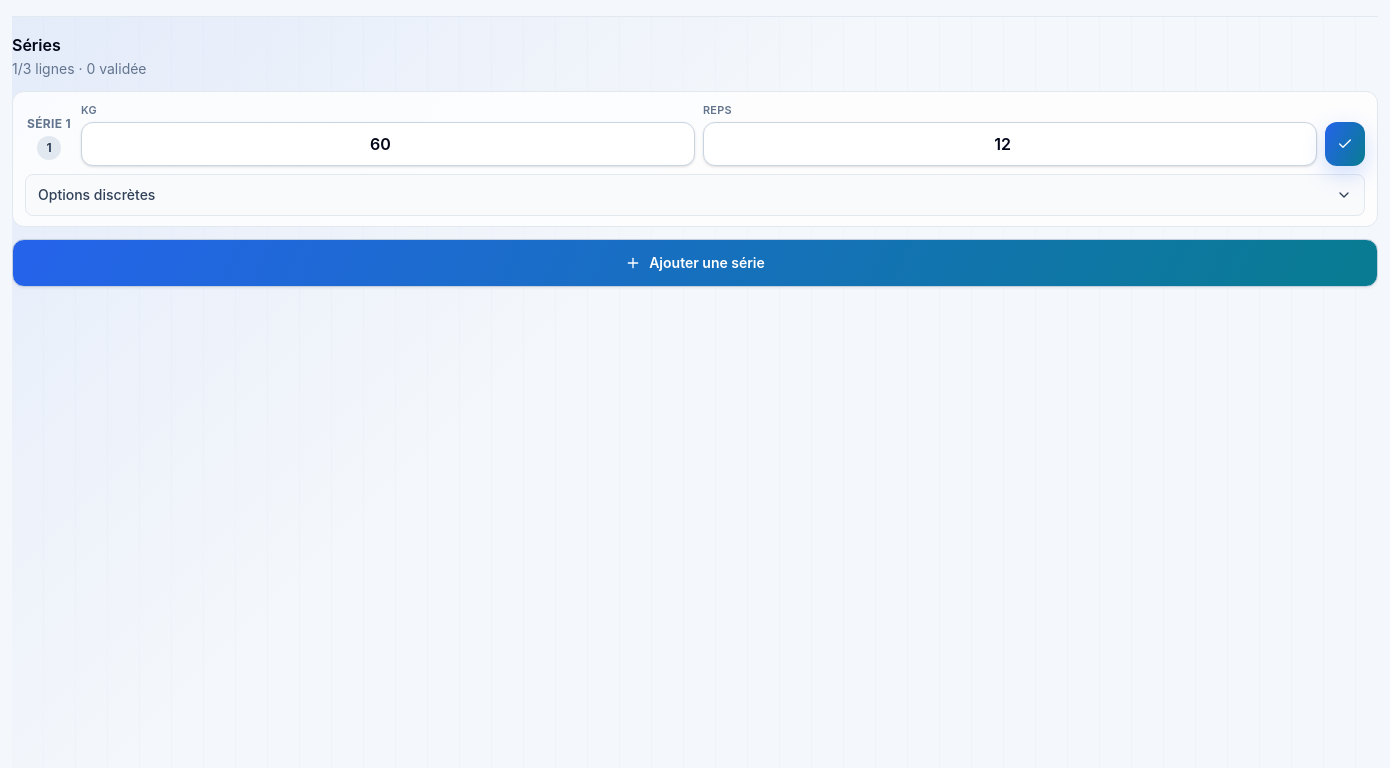
Test: StrengthSetEditor › sauvegarde au blur et conserve les valeurs si la sauvegarde échoue
Replace the text in the number field named "Charge en kg" with "70". click: (388, 144)
box: top-left (81, 122), bottom-right (695, 166)
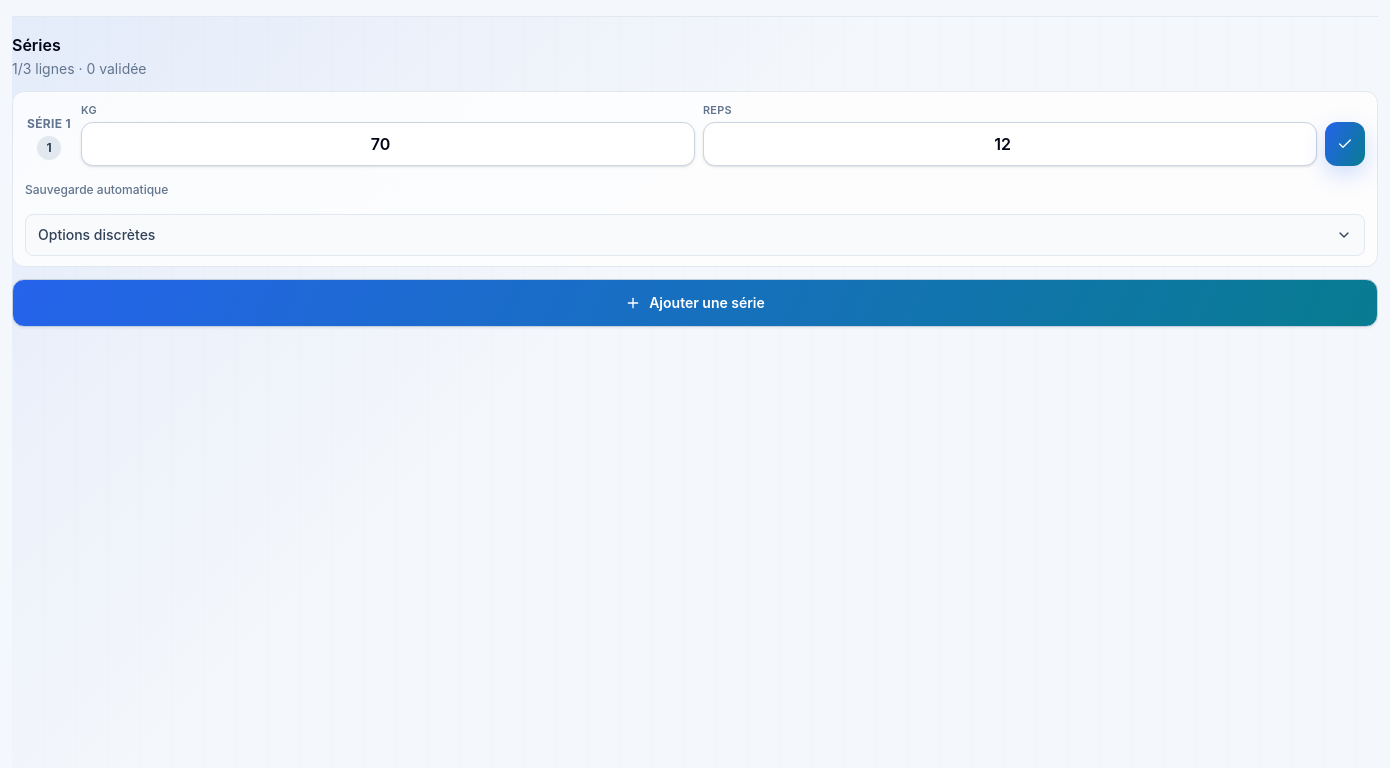
Leave the number field named "Charge en kg", box top-left (81, 122), bottom-right (695, 166)
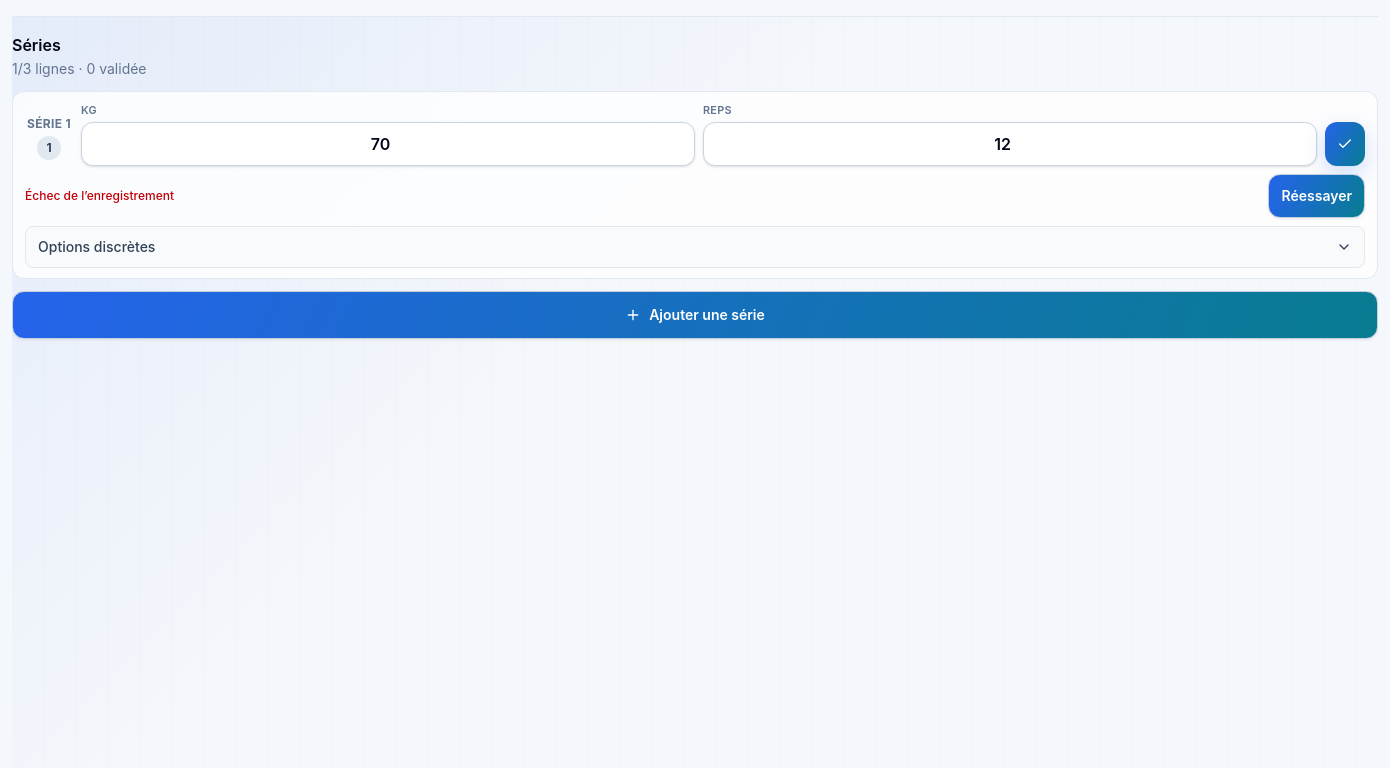
Result: the message reads "Échec de l’enregistrement" at top-left (25, 188), bottom-right (174, 203)
Result: the button "Réessayer" is shown at top-left (1268, 174), bottom-right (1365, 218)
